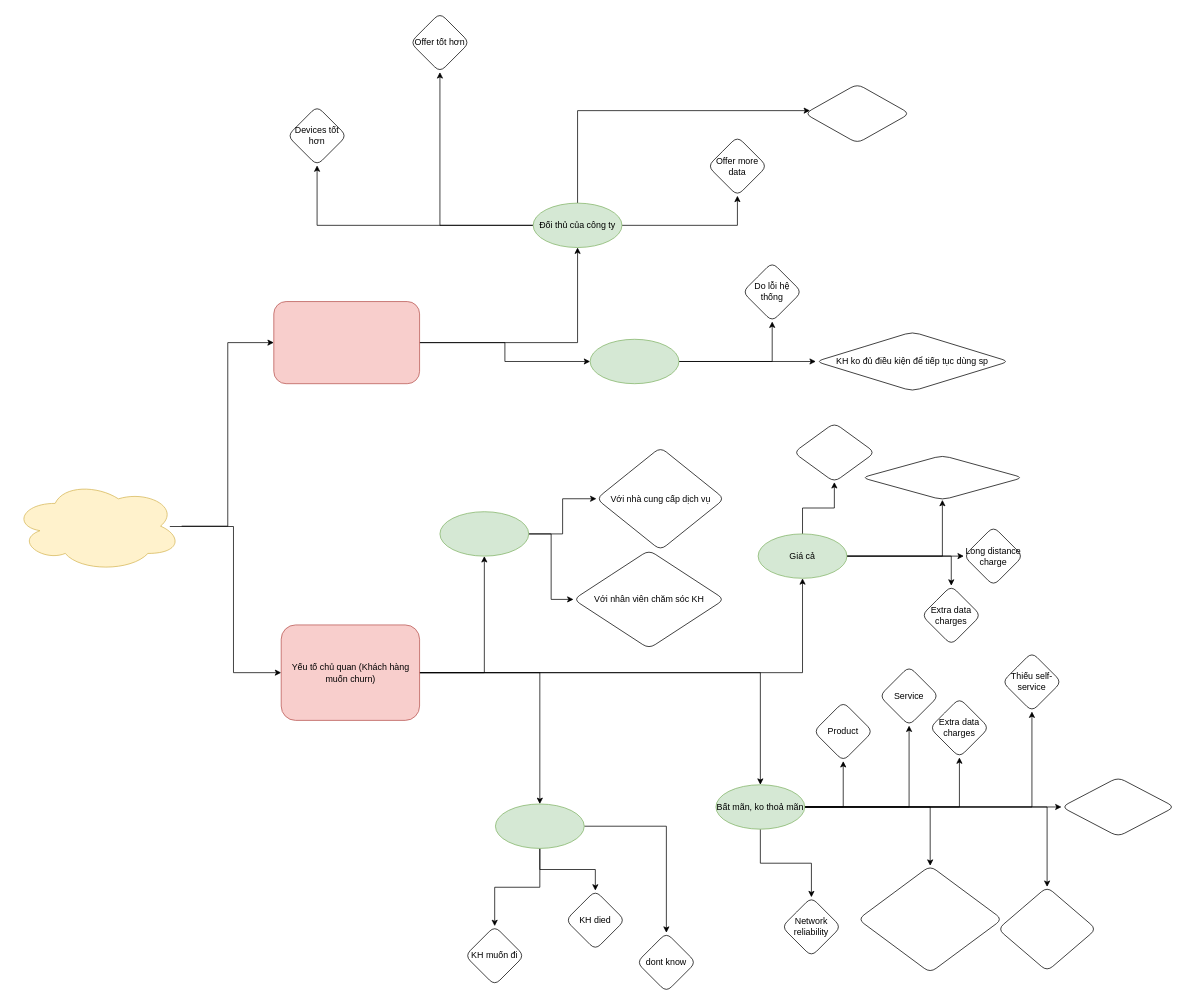
Image size: 1188x1005. Some labels were removed from this diagram. Each missing label, with the centre of its shape:
"Dow/up load poor" belongs at point 942,477.
"Hệ thống" belongs at point 634,361.
"Khách hàng Churn" belongs at point 97,526.
"Limited range of services" belongs at point 1118,807.
"Nguyên nhân khác" belongs at point 539,825.
"Offer higher dowload speed" belongs at point 857,113.
"Price too high" belongs at point 834,452.
"Thiếu chuyên gia support online" belongs at point 1046,928.
"Thiếu chuyên gia support qua phone" belongs at point 929,919.
"Thái độ" belongs at point 484,533.
"Yếu tố khách quan ( khách hàng bắt bộc phải churn )" belongs at point 346,342.
